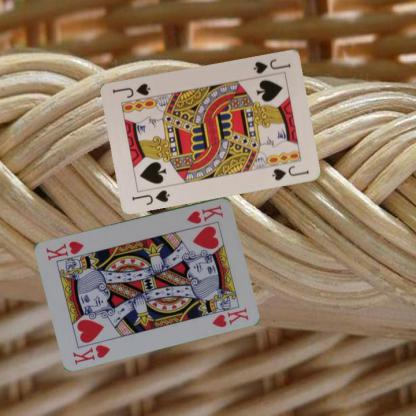Js: (130, 187, 172, 206), (251, 56, 292, 75)
Kh: (184, 202, 225, 225), (70, 342, 111, 365)
